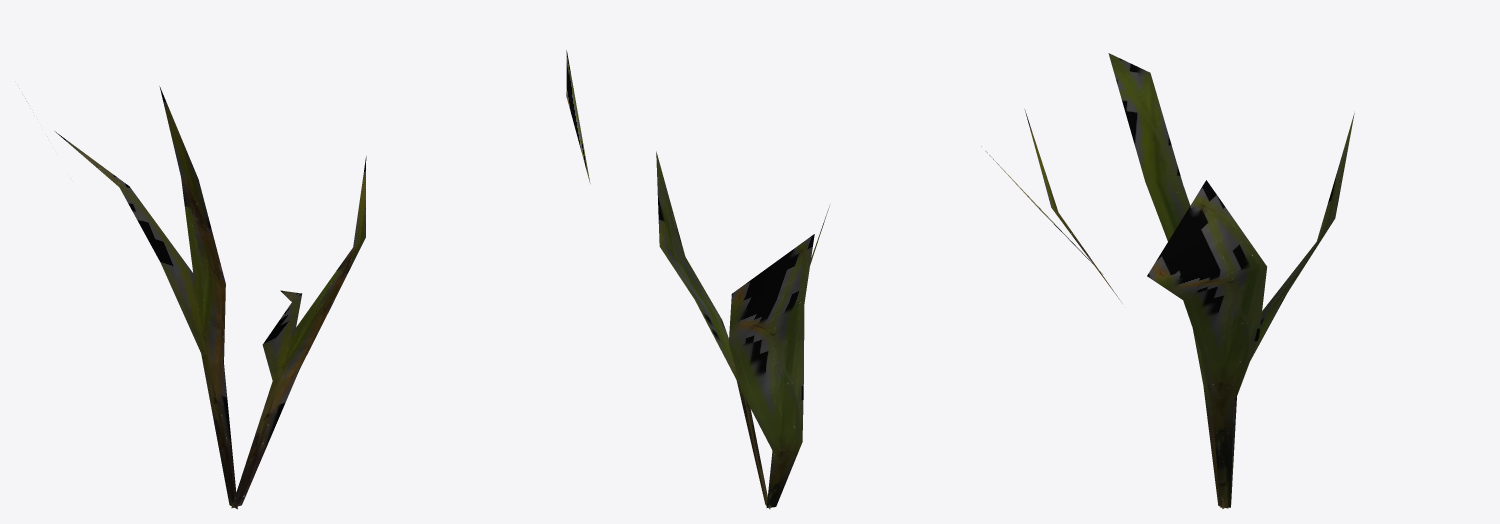
File: EelGrass_01-transformed.glb
The picture shows the model from 3 angles, left to right: view 1: azimuth 30°, elevation 25°; view 2: azimuth 150°, elevation 25°; view 3: azimuth 270°, elevation 25°; orthographic projection. The views are drawn at different scales.
Visible parts, largest first — view 1: EelGrass_01; view 2: EelGrass_01; view 3: EelGrass_01.
Boxes of the visible parts, box(x1,y1,x2,y2) form: EelGrass_01: box(25, 86, 366, 509); EelGrass_01: box(566, 50, 829, 509); EelGrass_01: box(981, 53, 1354, 508).
Bounding box in the file's own units: 5.16 × 6.03 × 5.7.
1 material, 1 textured.
